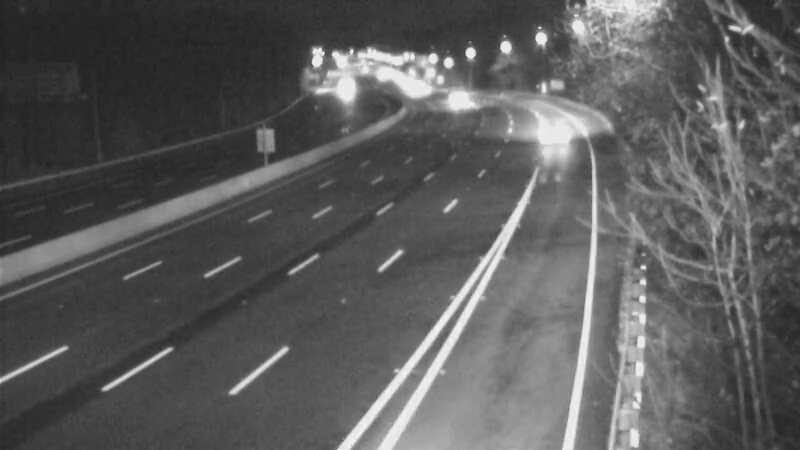vehicle: (390, 65, 440, 115), (424, 73, 474, 123), (526, 106, 576, 156)
